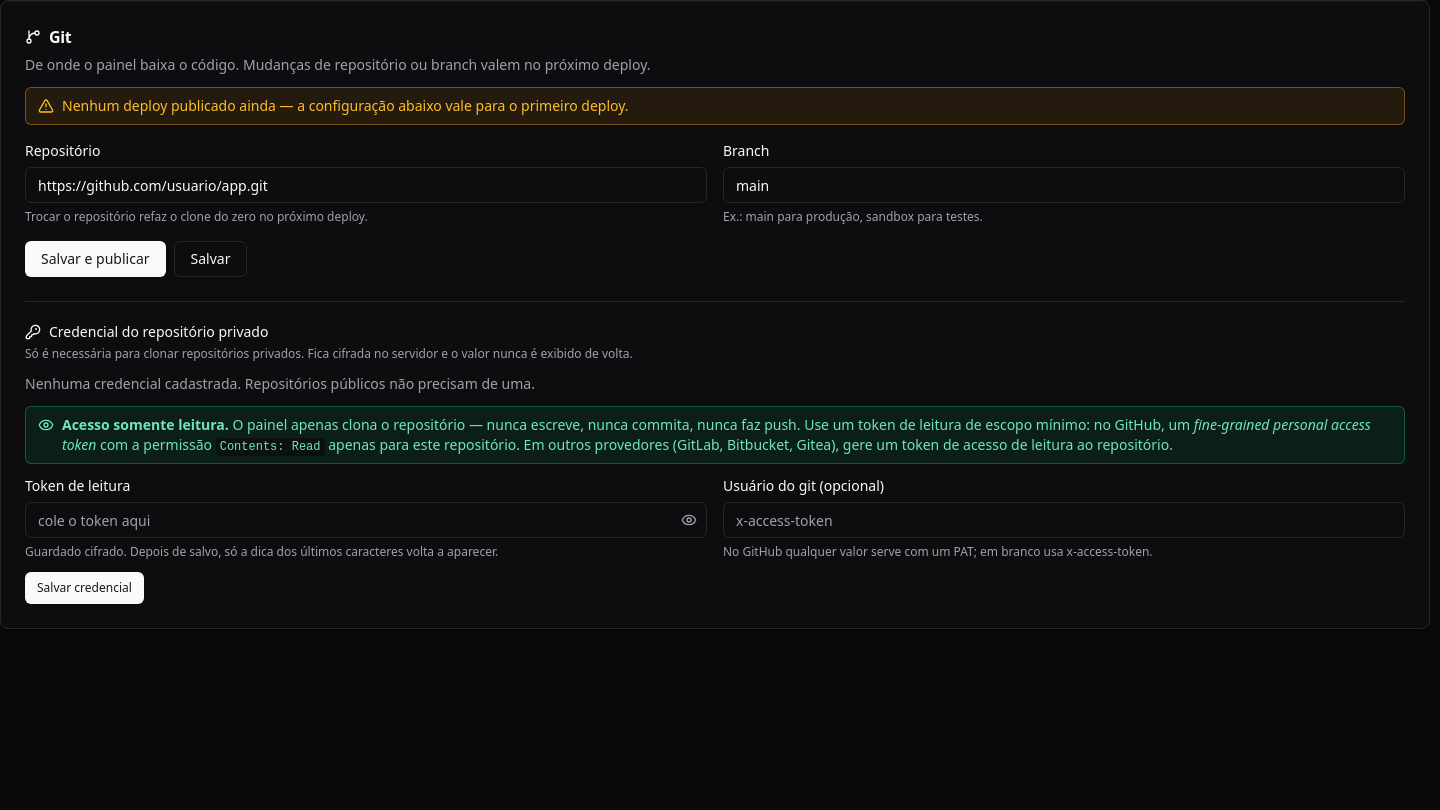
Test case: ProjectConfigCard — credencial de leitura › mostra o erro da API ao falhar o cadastro da credencial
Type "ghp_abcdef" into the password field labelled "Token de leitura" at (366, 520), box [25,502,707,538]
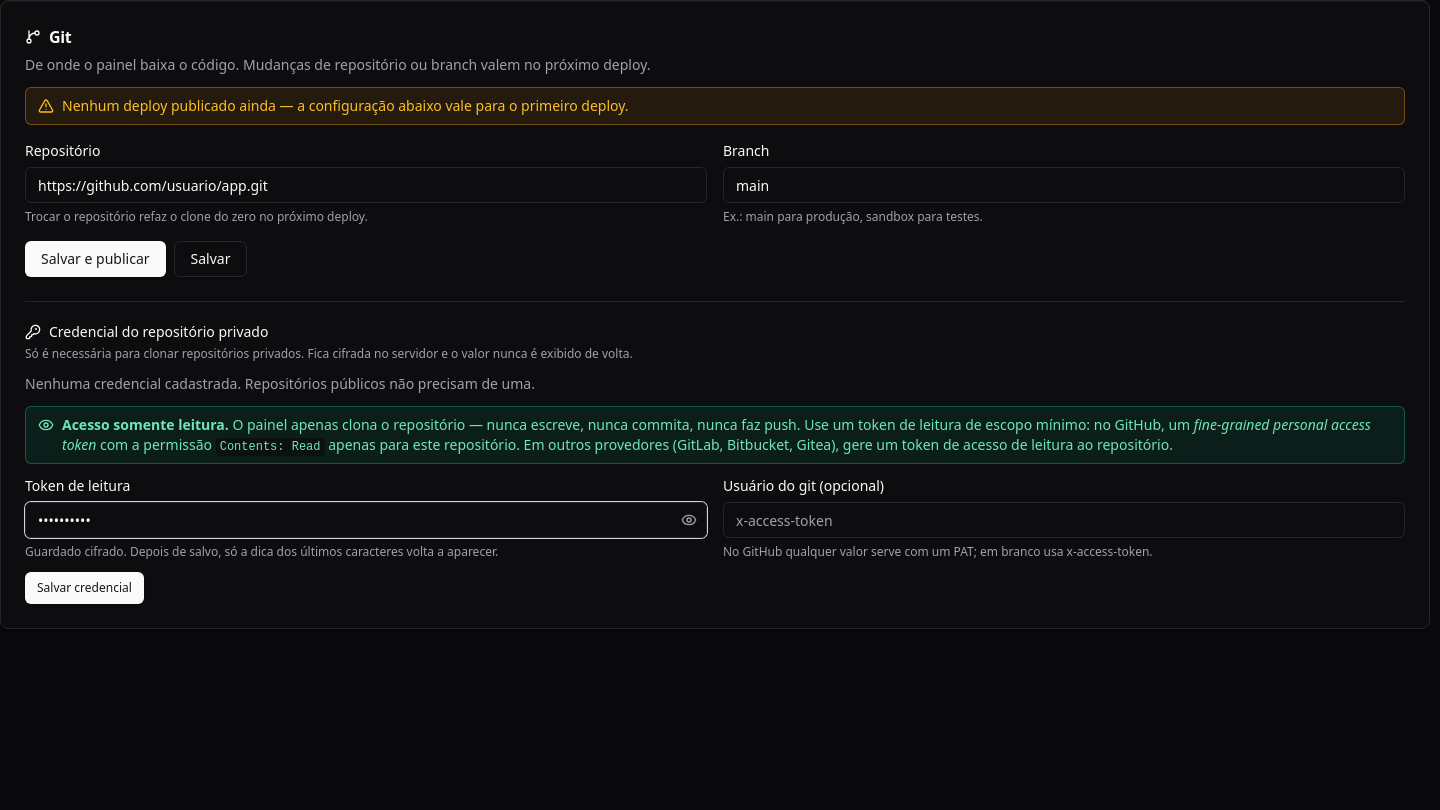
Click the button "Salvar credencial" at (84, 588), box [25,572,144,604]
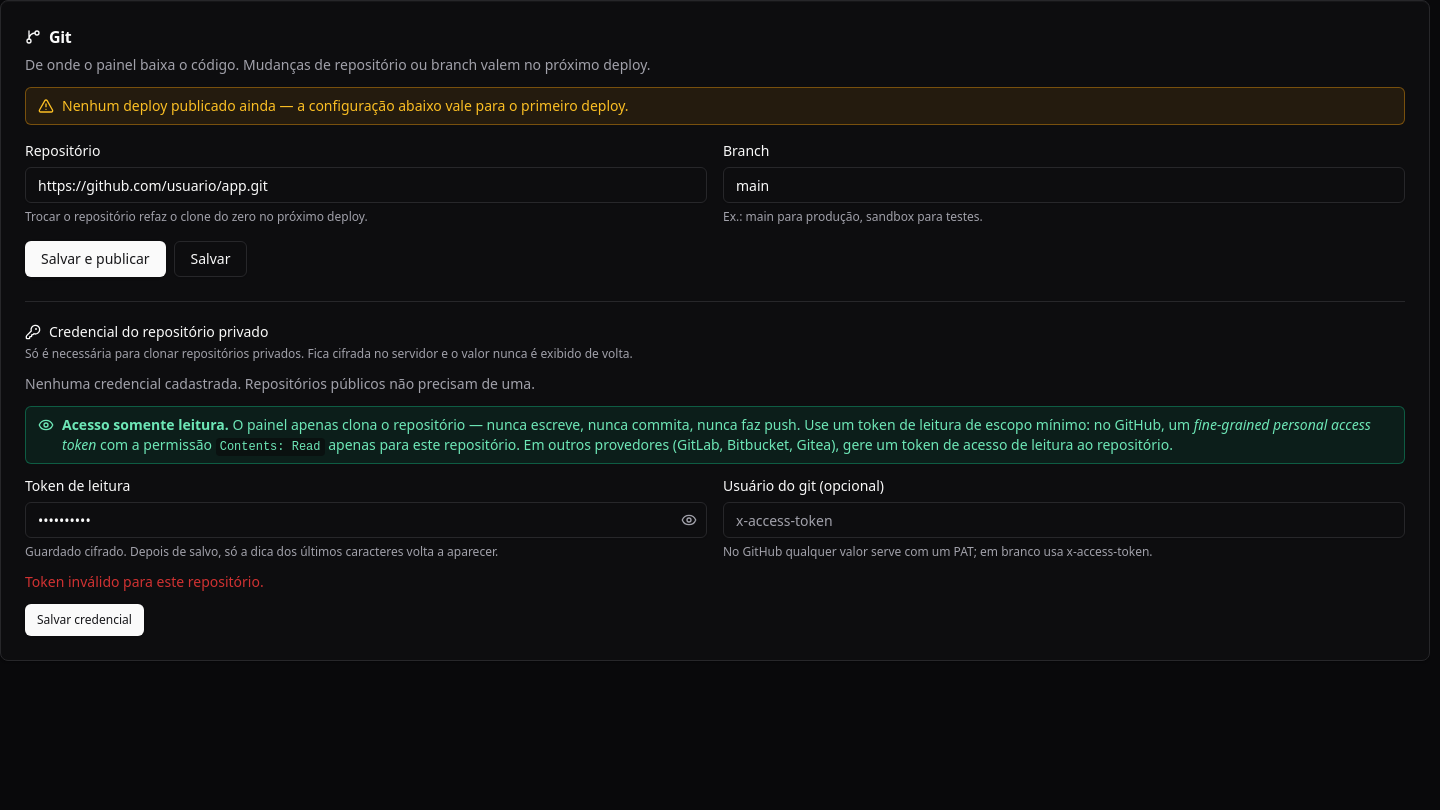
Result: the text "Token inválido para este repositório." is shown at [25,572,264,591]
